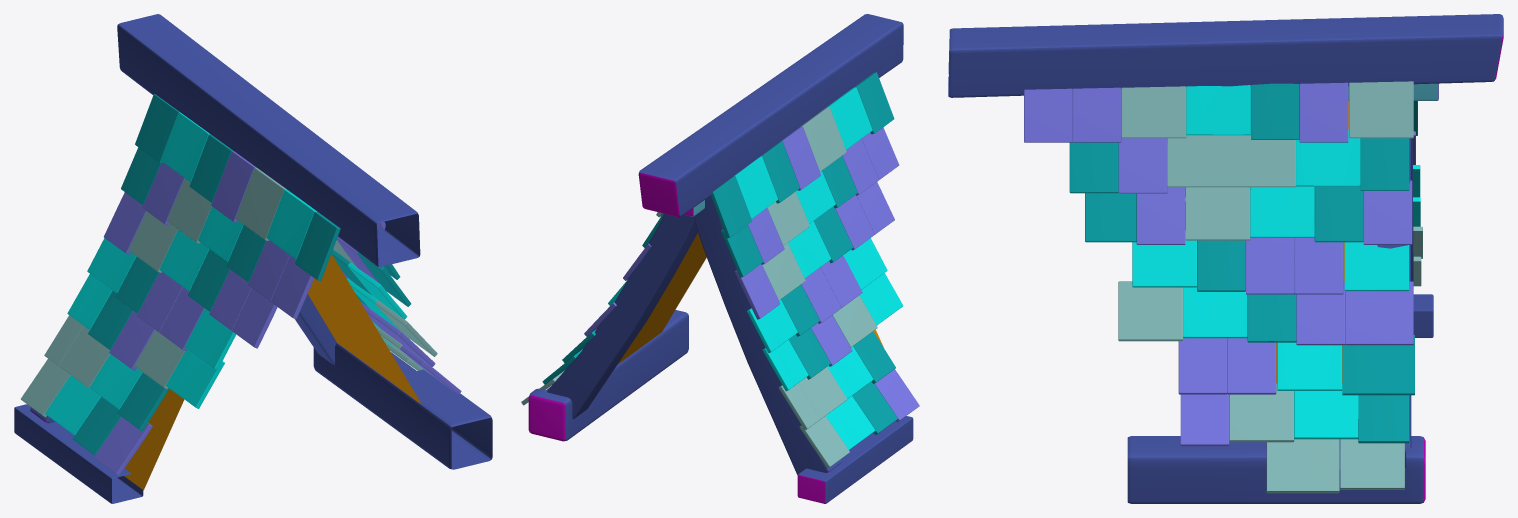
File: SM_Hous2_roof.fbx
3 renders of one model, left to right at view 1: azimuth 30°, elevation 25°; view 2: azimuth 150°, elevation 25°; view 3: azimuth 270°, elevation 25°, orthographic. The views are drawn at different scales.
Parts seen in each view (by area): view 1: SM_Hous2_roof; view 2: SM_Hous2_roof; view 3: SM_Hous2_roof.
Boxes of the visible parts, <box> form: SM_Hous2_roof: <box>14,14,492,503</box>; SM_Hous2_roof: <box>521,14,919,503</box>; SM_Hous2_roof: <box>948,14,1503,503</box>.
Size of the model in its own units: 3.67 by 3.53 by 4.58.
